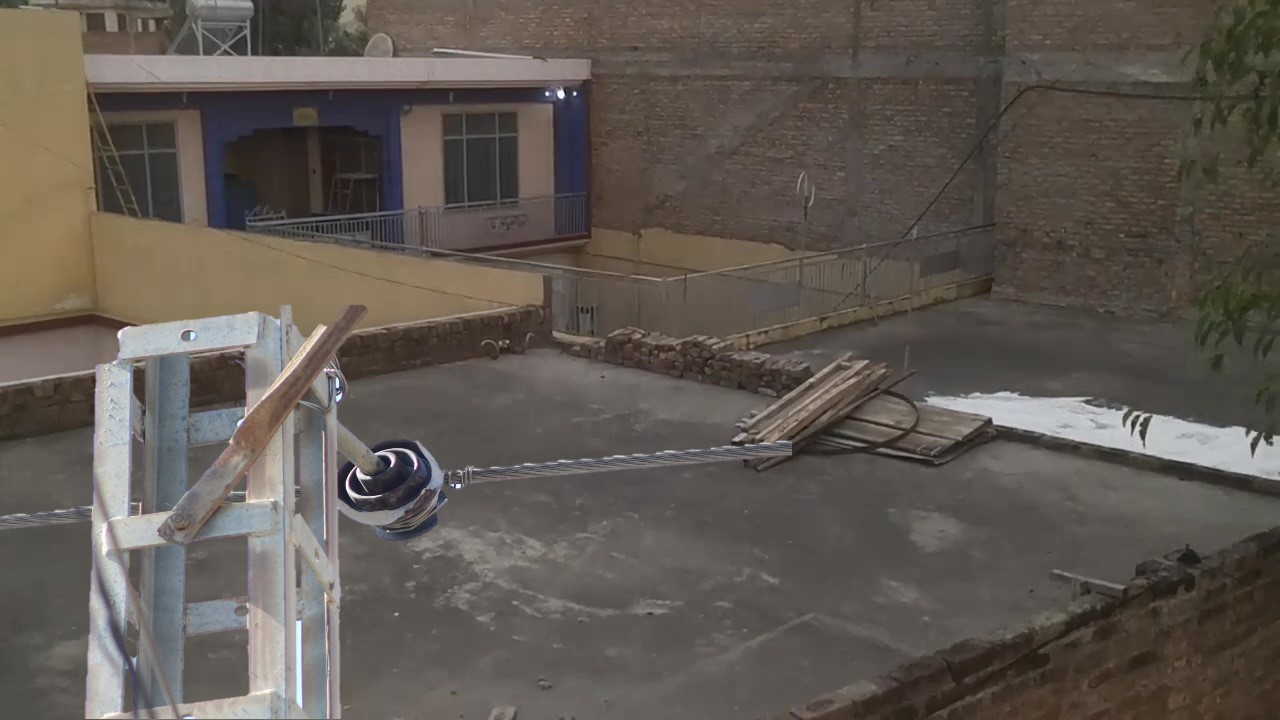defect_pin: (334, 433, 452, 546)
